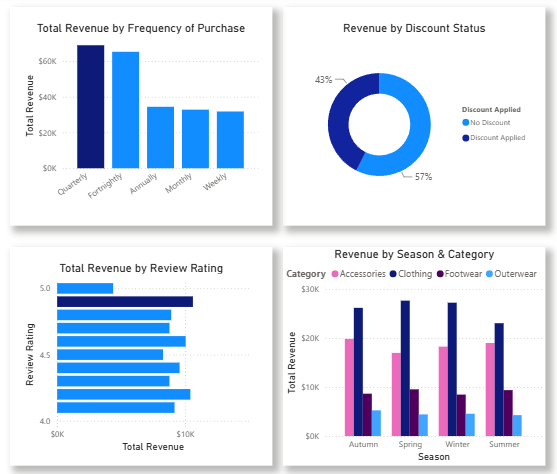

The page's visual inventory and layout, read from the dashboard file:
{"tool":"powerbi","page":{"name":"Customer Satisfaction Deep Dive","canvas":[1280,720],"ordinal":1},"visuals":[{"type":"donutChart","title":"Revenue by Discount Status","fields":{"Category":["sales_fact.discount_status"],"Y":["sales_fact.total_revenue"]},"box":[640,16,608,320],"z":2000},{"type":"clusteredColumnChart","fields":{"Y":["sales_fact.total_revenue"],"Category":["frequency_purchase_dim.frequency_of_purchase"]},"box":[16,16,576,320],"z":4000},{"type":"clusteredBarChart","title":"Total Revenue by Review Rating","fields":{"Category":["sales_fact.review_rating"],"Y":["sales_fact.total_revenue"]},"box":[16,368,576,320],"z":5000},{"type":"clusteredColumnChart","title":"Revenue by Season & Category","fields":{"Category":["season_dim.season"],"Y":["sales_fact.total_revenue"],"Series":["product_dim.category"]},"box":[640,368,608,320],"z":8000}]}

Visuals, with their boxes on the page's 1280x720 design canvas (x1, y1, x2, y2). These are canvas units, not pixel positions in the 557x474 screenshot, which may show the page scaled, cropped or inside an application window:
"Revenue by Discount Status" donutChart: x1=640, y1=16, x2=1248, y2=336
clusteredColumnChart - sales_fact.total_revenue x frequency_purchase_dim.frequency_of_purchase: x1=16, y1=16, x2=592, y2=336
"Total Revenue by Review Rating" clusteredBarChart: x1=16, y1=368, x2=592, y2=688
"Revenue by Season & Category" clusteredColumnChart: x1=640, y1=368, x2=1248, y2=688
